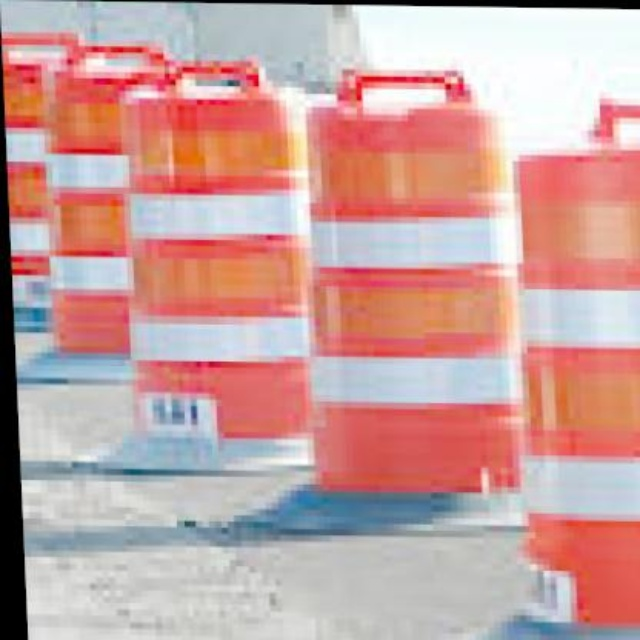obstacle: (278, 81, 530, 512), (131, 78, 323, 452)
